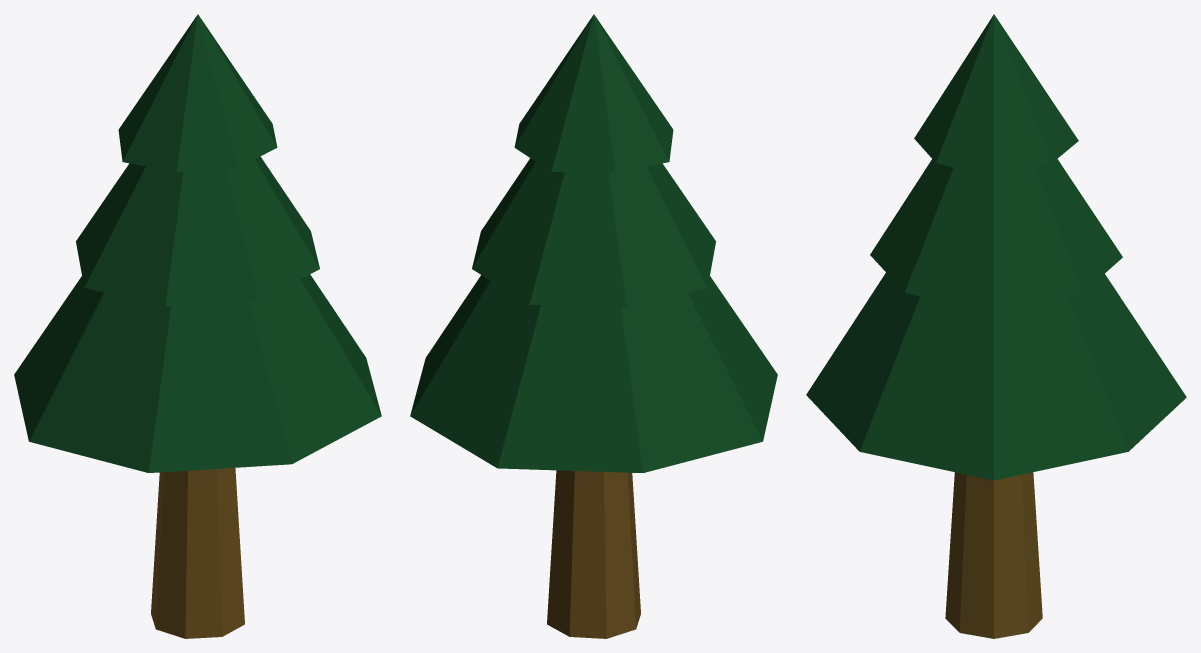
File: spruce_big.fbx
3 renders of one model, left to right at view 1: azimuth 30°, elevation 25°; view 2: azimuth 150°, elevation 25°; view 3: azimuth 270°, elevation 25°, orthographic.
Parts seen in each view (by area): view 1: Cylinder; view 2: Cylinder; view 3: Cylinder.
Part boxes in pixels (<box>): Cylinder: <box>14,14,381,638</box>; Cylinder: <box>410,14,777,638</box>; Cylinder: <box>806,14,1186,638</box>.
Size of the model in its own units: 817 by 1400 by 800.
